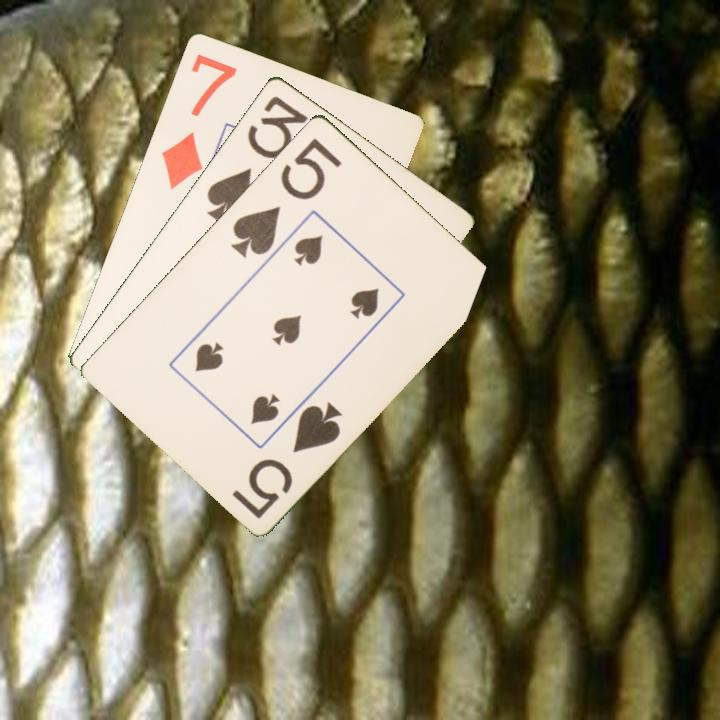3s: (202, 91, 311, 227)
5s: (227, 133, 345, 260), (228, 397, 345, 521)
7d: (157, 49, 240, 192)
